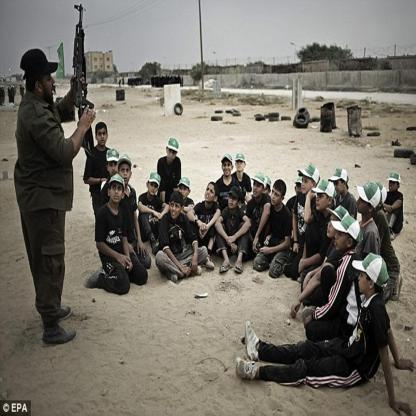face: (44, 72, 56, 102), (336, 227, 349, 251), (359, 268, 371, 293), (358, 193, 371, 214), (111, 183, 124, 204), (328, 216, 340, 238), (316, 191, 329, 211), (302, 174, 314, 194), (120, 165, 131, 184), (108, 160, 119, 178), (171, 202, 182, 219), (206, 186, 217, 202), (272, 190, 282, 206), (254, 181, 264, 197), (97, 130, 107, 146), (389, 177, 399, 192), (229, 194, 239, 209), (223, 161, 233, 176), (180, 184, 189, 200), (334, 180, 344, 194), (150, 182, 160, 196), (168, 147, 177, 162), (236, 159, 245, 172), (297, 182, 305, 196), (262, 184, 269, 197)
